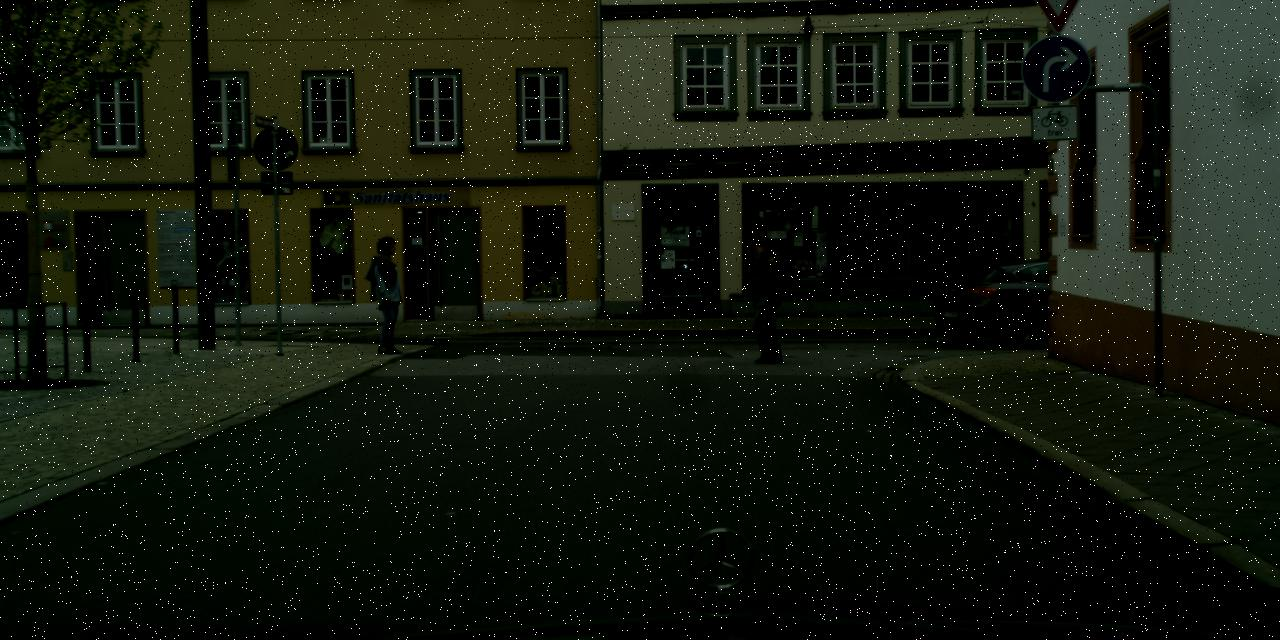ped: (742, 238, 792, 362), (364, 236, 411, 352)
